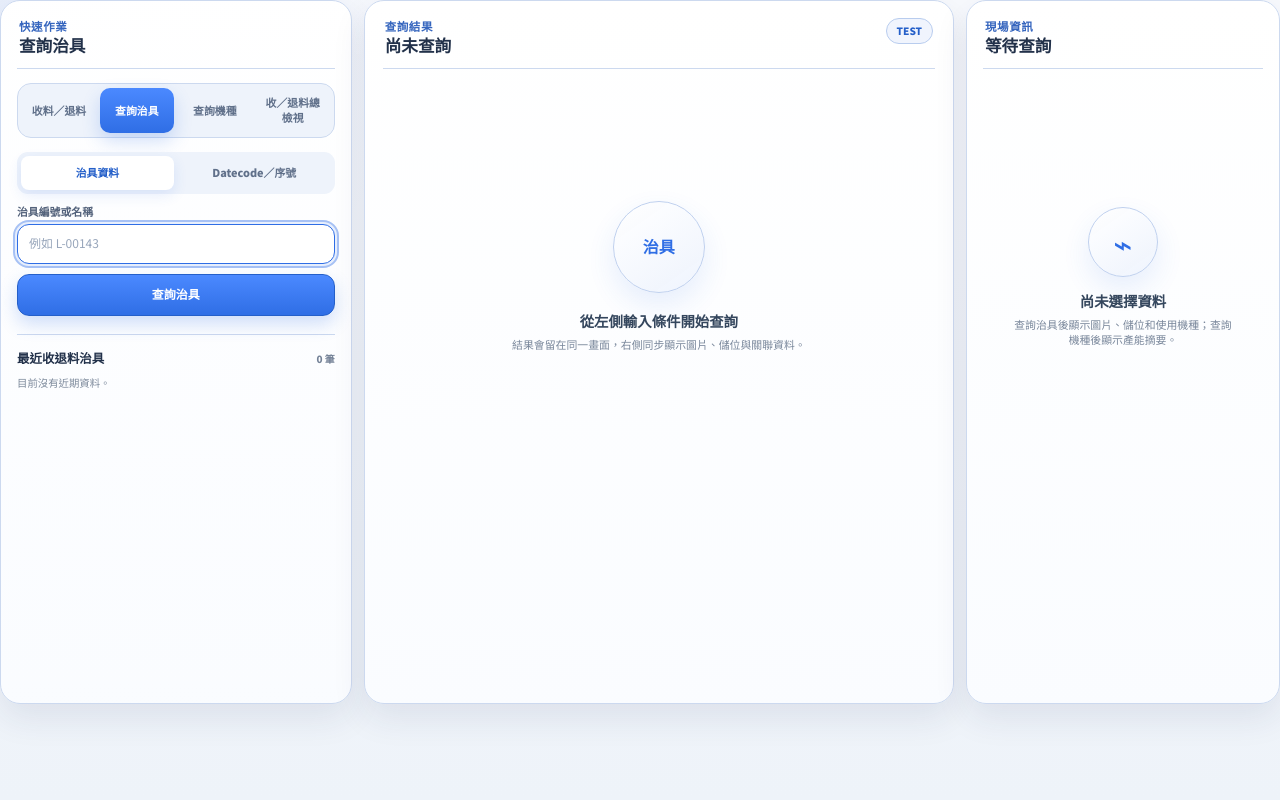
Scenario: WorkbenchUiSurface › lets admin edit fixture fields directly from Workspace details
Type "L-00143" into the field with placeholder "例如 L-00143" at [176, 244], box x1=17 y1=224 x2=335 y2=264
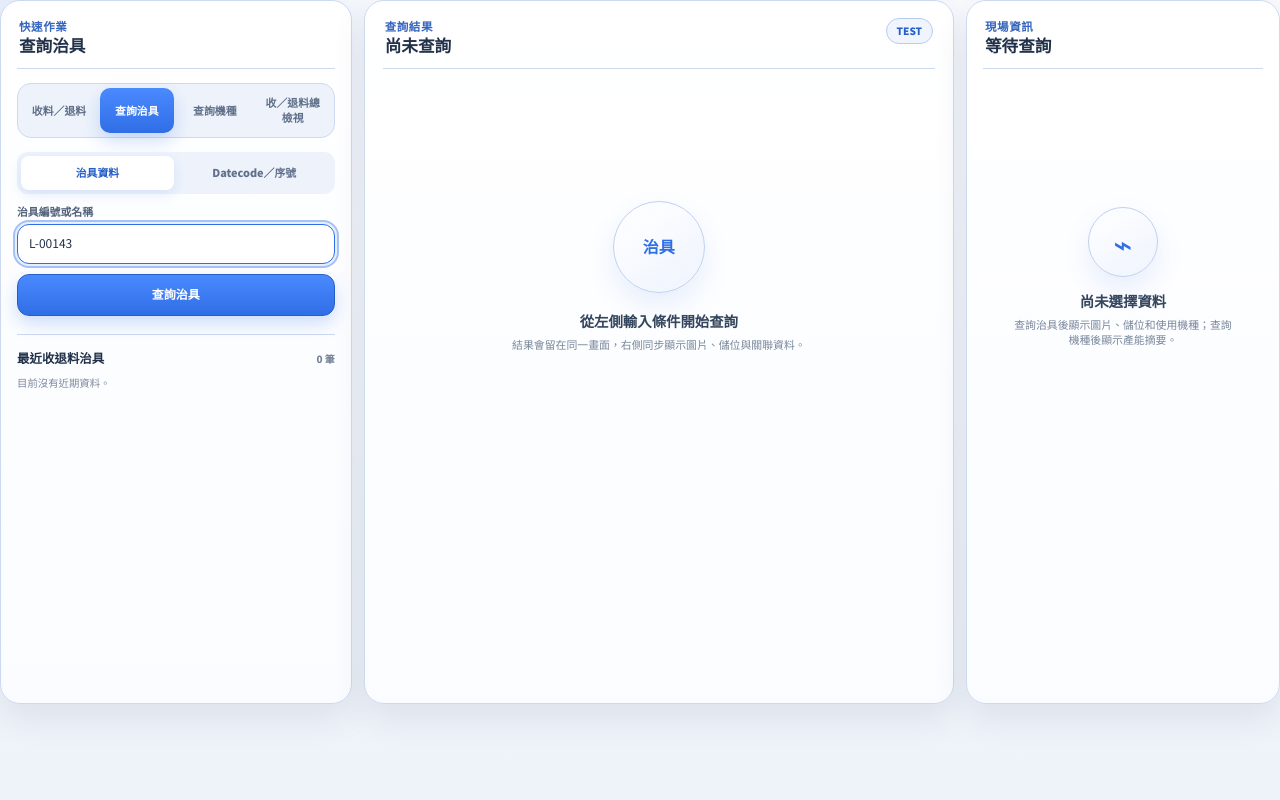
Submit the form with class "workbench-query-form", box x1=17 y1=152 x2=335 y2=316
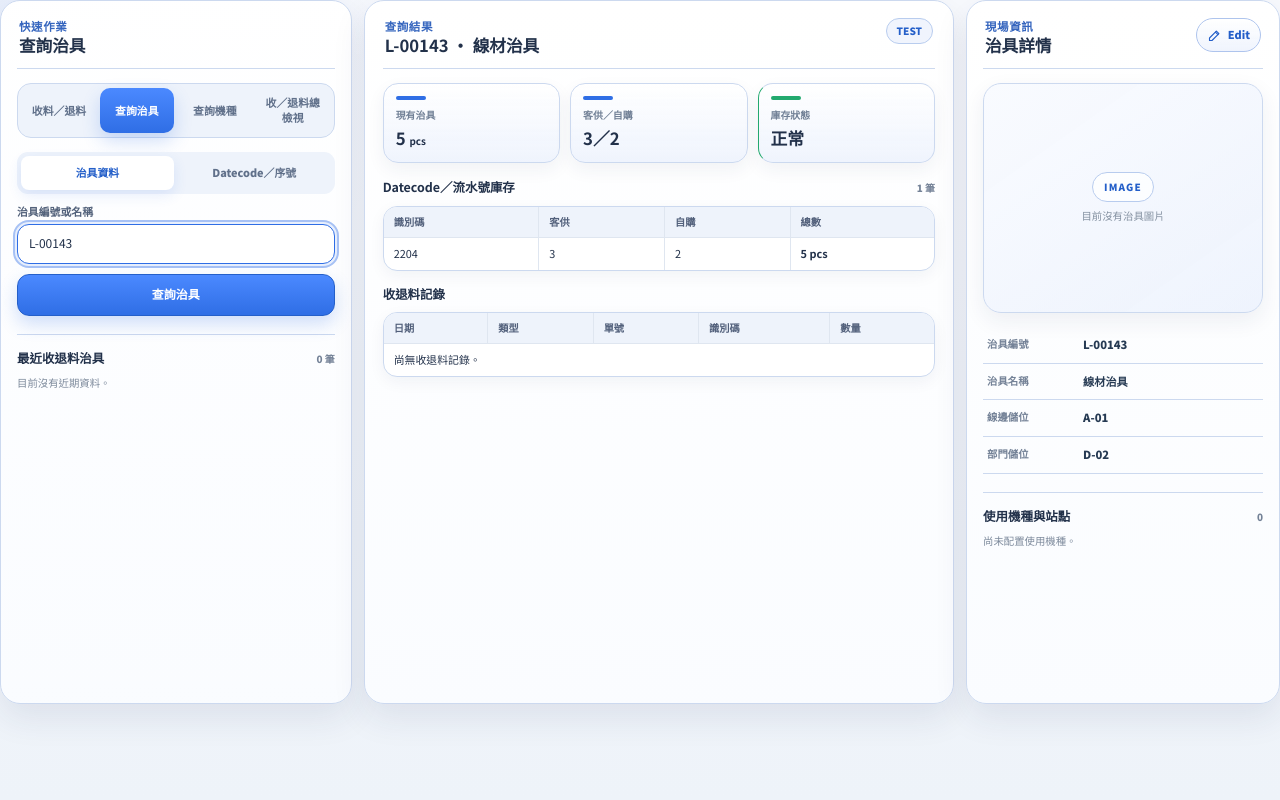
Click the button with aria-label "編輯治具資料" at [1228, 35], box x1=1196 y1=18 x2=1261 y2=52
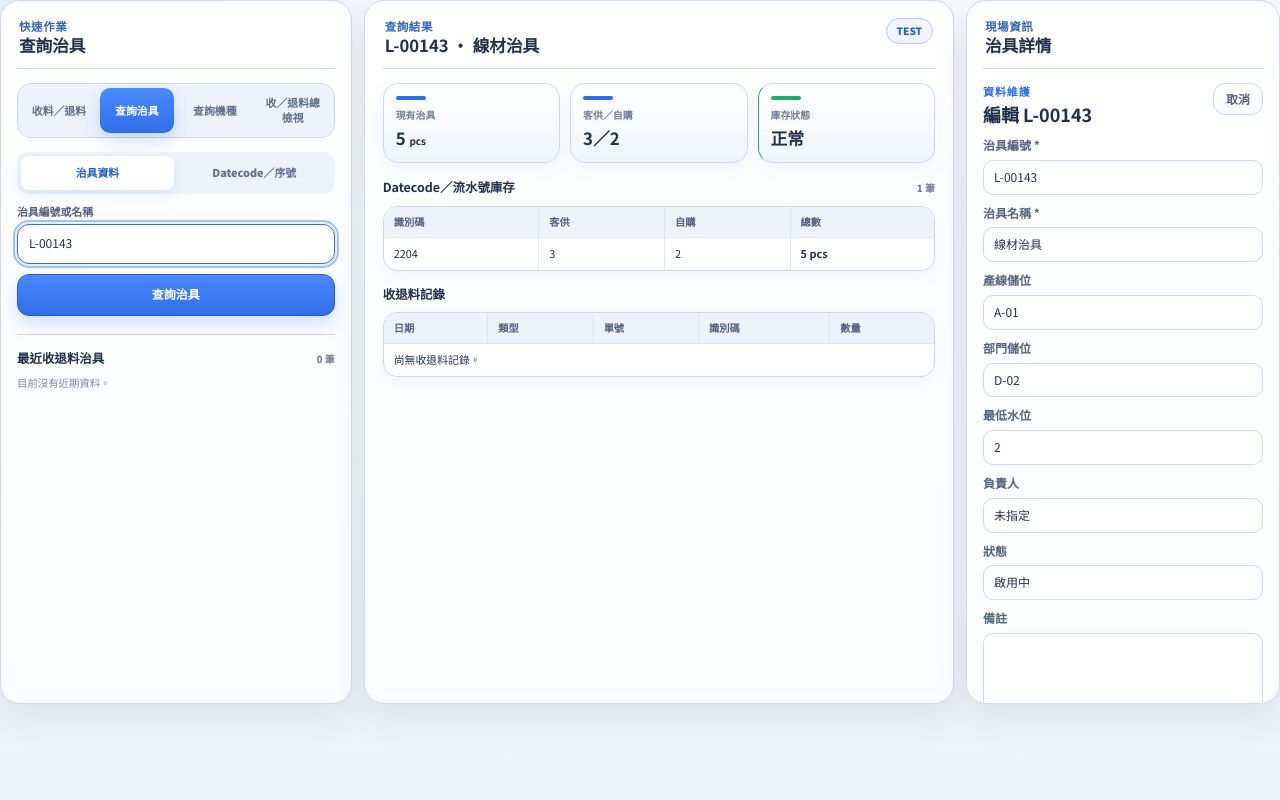
Now the form with class "workbench-inline-editor" shows "資料維護", box x1=983 y1=83 x2=1030 y2=99
Replace the text in the field labelled "治具名稱 *" with "更新後治具" at [1123, 245], box x1=983 y1=228 x2=1263 y2=262
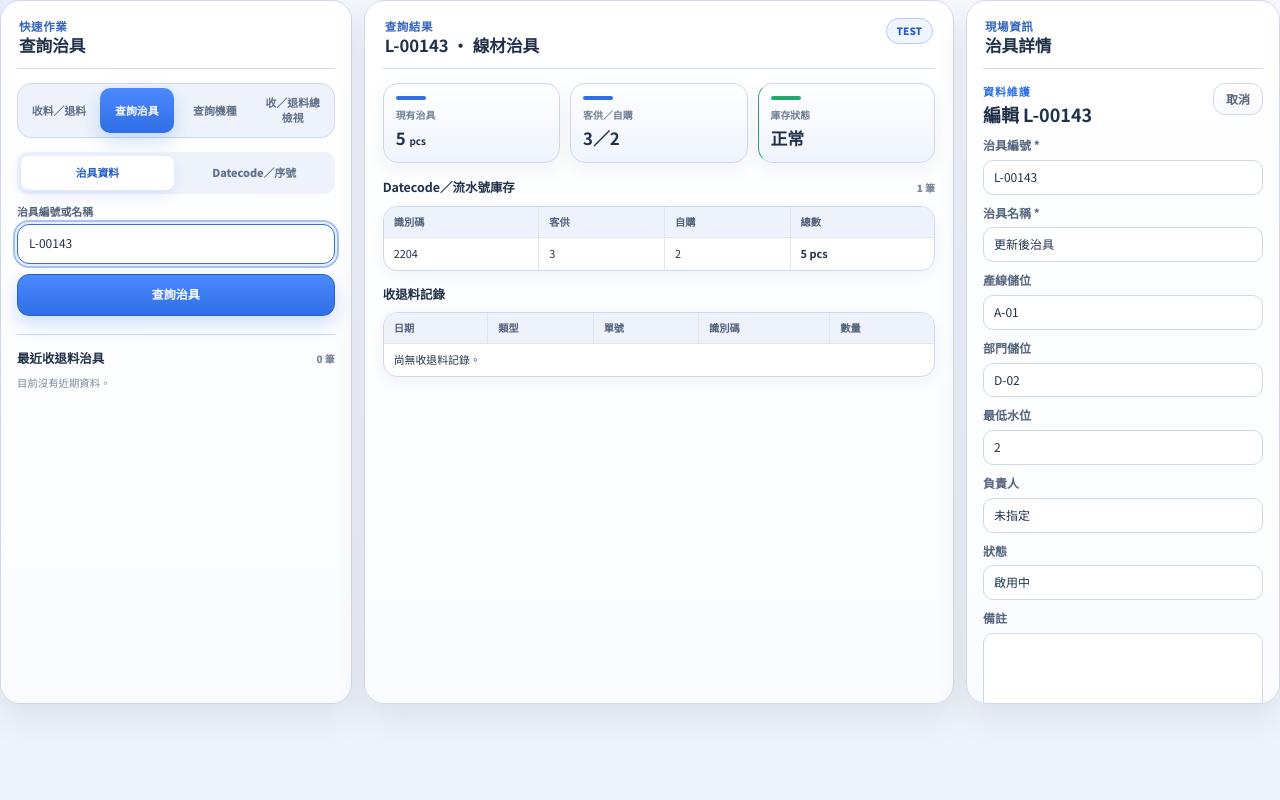
Submit the form with class "workbench-inline-editor", box x1=983 y1=83 x2=1263 y2=764
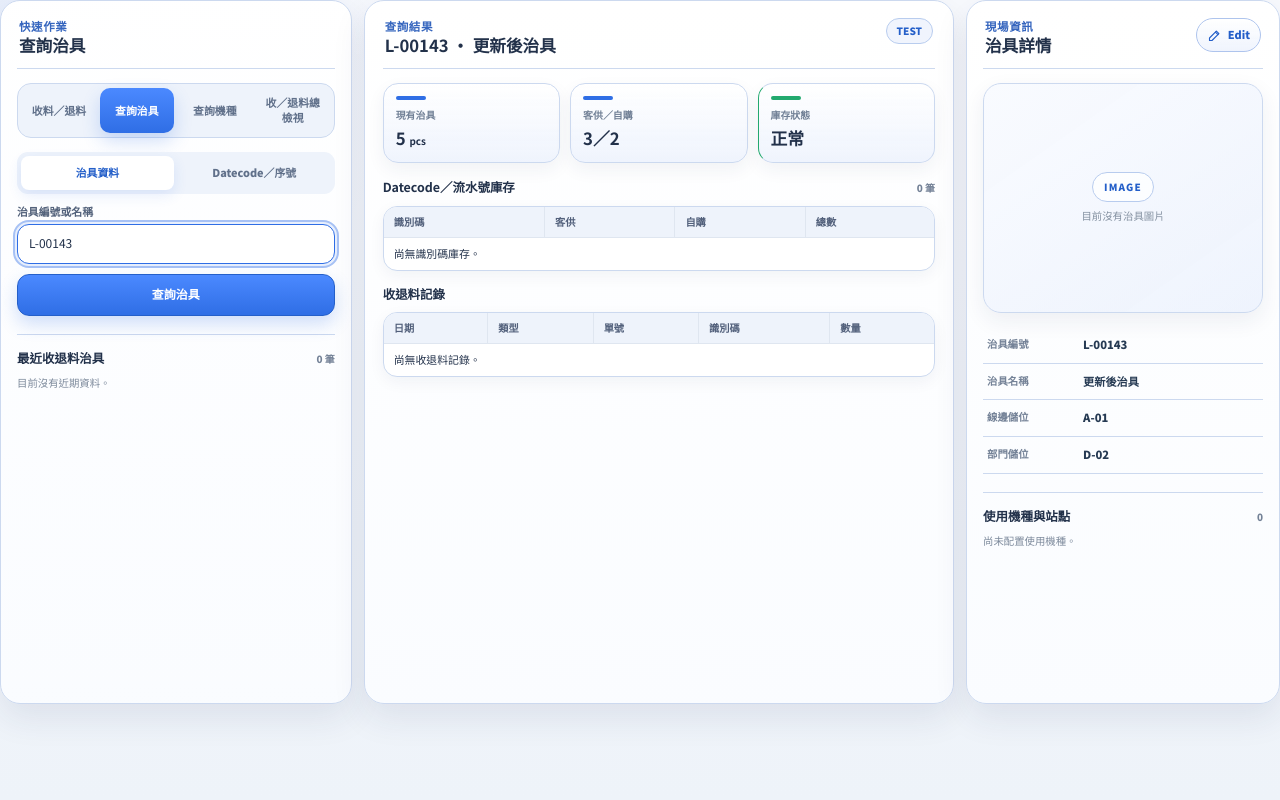
Now the text "更新後治具" is shown, box x1=385 y1=33 x2=556 y2=57
